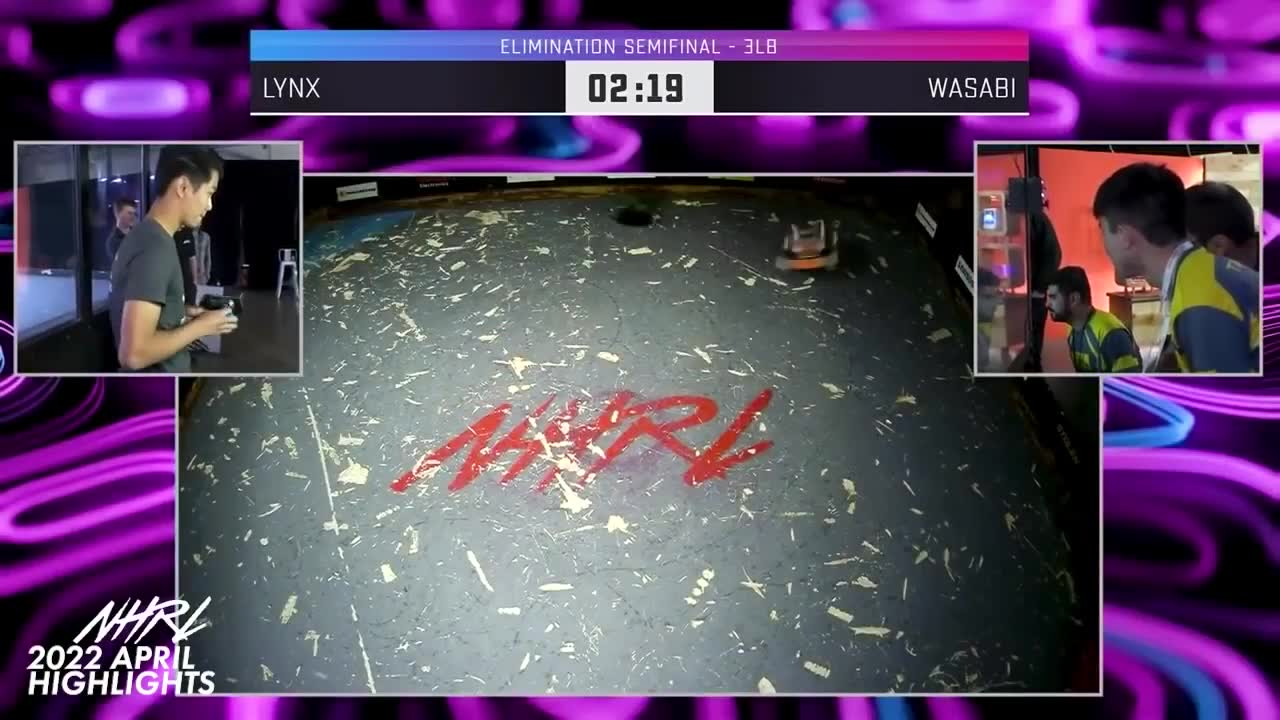combatbot: (779, 218, 844, 273), (611, 199, 665, 226)
